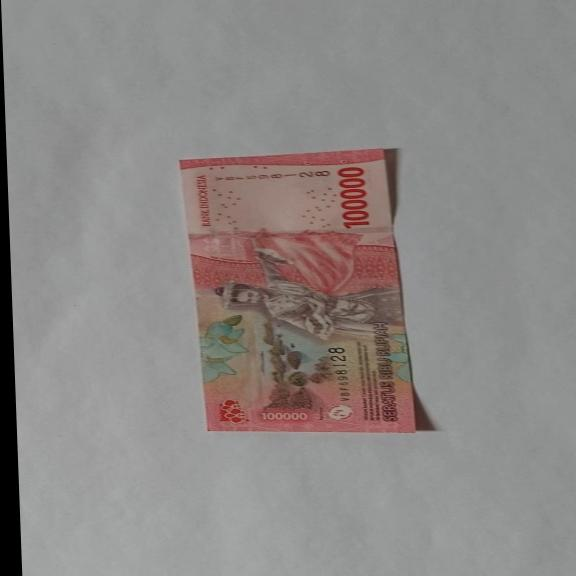Kertas: (177, 148, 434, 434), (336, 166, 372, 228)
